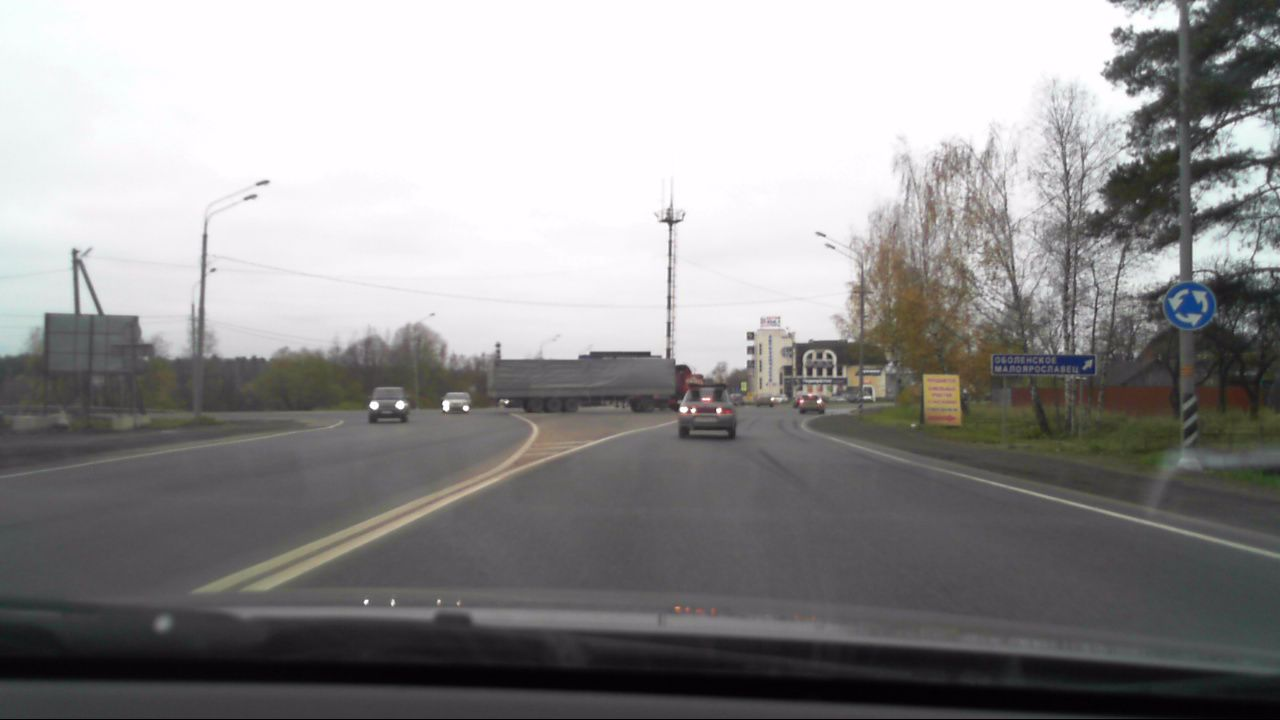Round-About: (1160, 284, 1220, 335)
